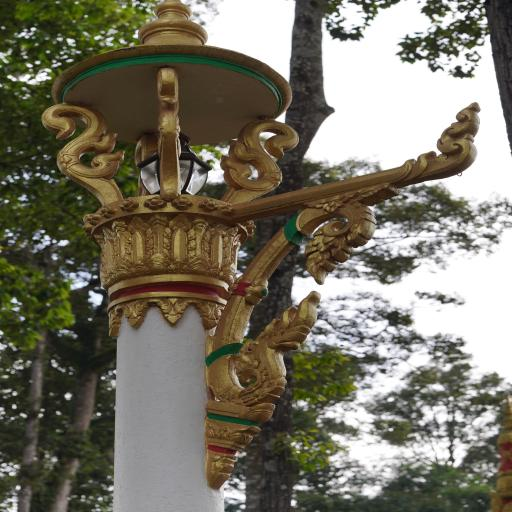ran: (194, 282, 328, 413), (299, 190, 400, 288)
